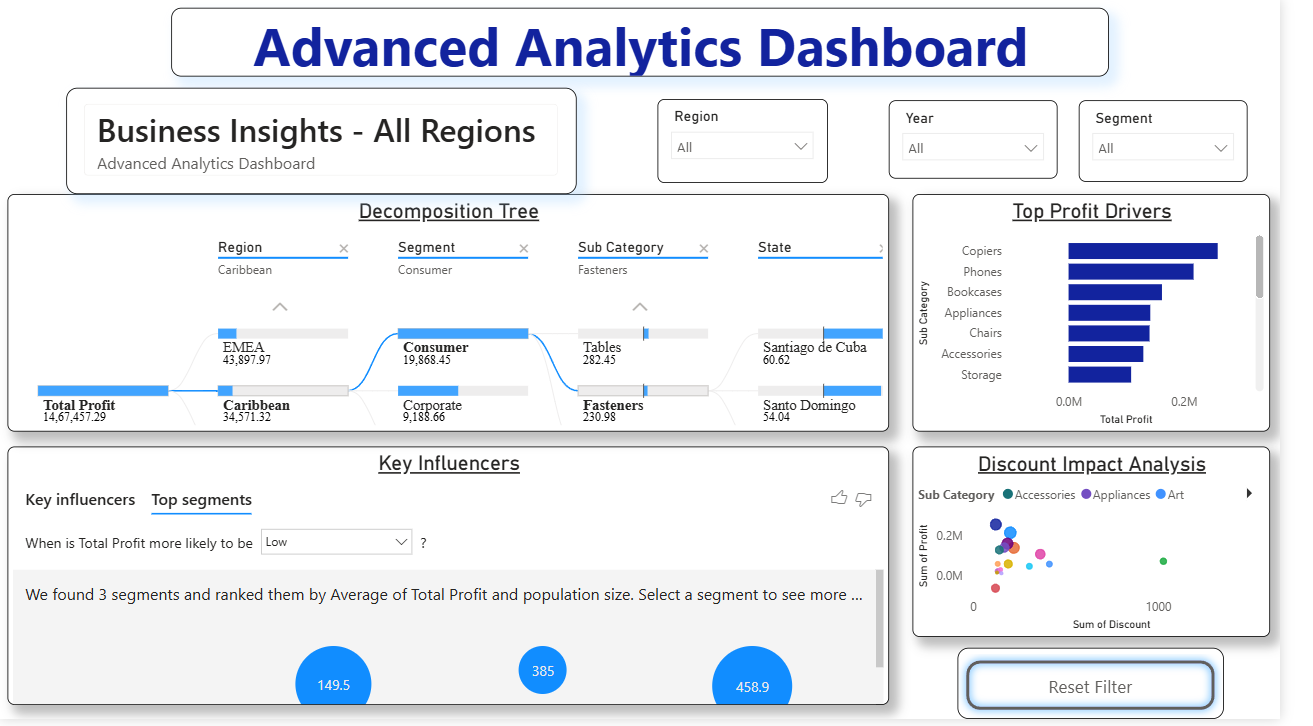

Layout of this report page (visuals, bound fields, positions):
{"tool":"powerbi","page":{"name":"Advanced Analytics ","canvas":[1280,720],"ordinal":6},"visuals":[{"type":"keyDriversVisual","title":"Key Influencers","fields":{"Target":["superstore.Total Profit"],"ExplainBy":["Sum(superstore.Discount)","superstore.Segment","superstore.Region","superstore.Sub Category","Sum(superstore.Sales)"]},"box":[7.3,447.6,881.7,258],"z":0},{"type":"decompositionTreeVisual","title":"Decomposition Tree","fields":{"ExplainBy":["superstore.Region","superstore.Segment","superstore.Sub Category","superstore.State"],"Analyze":["superstore.Total Profit"]},"box":[7.5,195,881.2,237.5],"z":1000},{"type":"textbox","title":"Advanced Analytics Dashboard","box":[171.2,8.8,937.5,68.8],"z":3000},{"type":"slicer","fields":{"Values":["superstore.Region"]},"box":[657.5,100,170,83.8],"z":4000},{"type":"slicer","fields":{"Values":["Calender.Year"]},"box":[888.8,101.2,168.8,78.8],"z":5000},{"type":"slicer","fields":{"Values":["superstore.Segment"]},"box":[1078.8,101.2,168.8,81.2],"z":6000},{"type":"cardVisual","fields":{"Data":["superstore.Dashboard Title"]},"box":[66.2,88.8,510,106.2],"z":7000},{"type":"clusteredBarChart","title":"Top Profit Drivers","fields":{"Category":["superstore.Sub Category"],"Y":["superstore.Total Profit"]},"box":[912.5,195,357.5,237.5],"z":8000},{"type":"scatterChart","title":"Discount Impact Analysis","fields":{"X":["Sum(superstore.Discount)"],"Y":["Sum(superstore.Profit)"],"Size":["Sum(superstore.Sales)"],"Series":["superstore.Sub Category"]},"box":[912.5,447.5,357.5,190],"z":9000},{"type":"actionButton","box":[957.5,648.8,266.2,71.2],"z":10000}]}

Visuals, with their boxes in screenshot pixels (x1, y1, x2, y2), scaled from the page's 1280x720 canvas onto the 1313x726 screenshot:
"Key Influencers" keyDriversVisual: (7,451,912,711)
"Decomposition Tree" decompositionTreeVisual: (8,197,912,436)
"Advanced Analytics Dashboard" textbox: (176,9,1137,78)
slicer - superstore.Region: (674,101,849,185)
slicer - Calender.Year: (912,102,1085,182)
slicer - superstore.Segment: (1107,102,1280,184)
cardVisual - superstore.Dashboard Title: (68,90,591,197)
"Top Profit Drivers" clusteredBarChart: (936,197,1303,436)
"Discount Impact Analysis" scatterChart: (936,451,1303,643)
actionButton: (982,654,1255,725)
